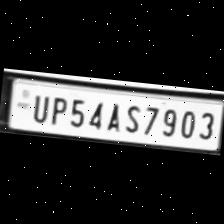0: (177, 106, 198, 138)
3: (196, 107, 218, 141)
4: (84, 95, 106, 129)
5: (64, 94, 88, 128)
7: (140, 103, 160, 137)
9: (156, 104, 178, 138)
A: (102, 98, 123, 132)
P: (46, 93, 68, 127)
S: (120, 101, 142, 135)
U: (27, 90, 50, 124)
